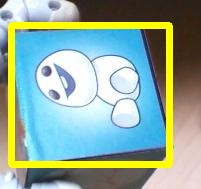Blue1: (11, 25, 169, 164)
